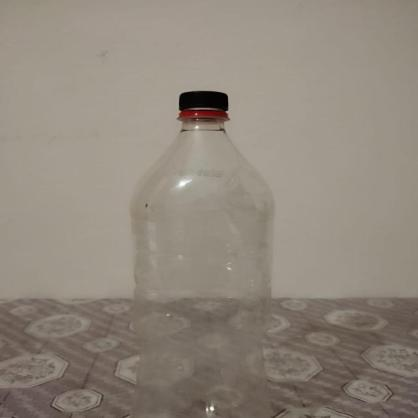bottle: (130, 90, 274, 418)
cap: (178, 92, 228, 120)
